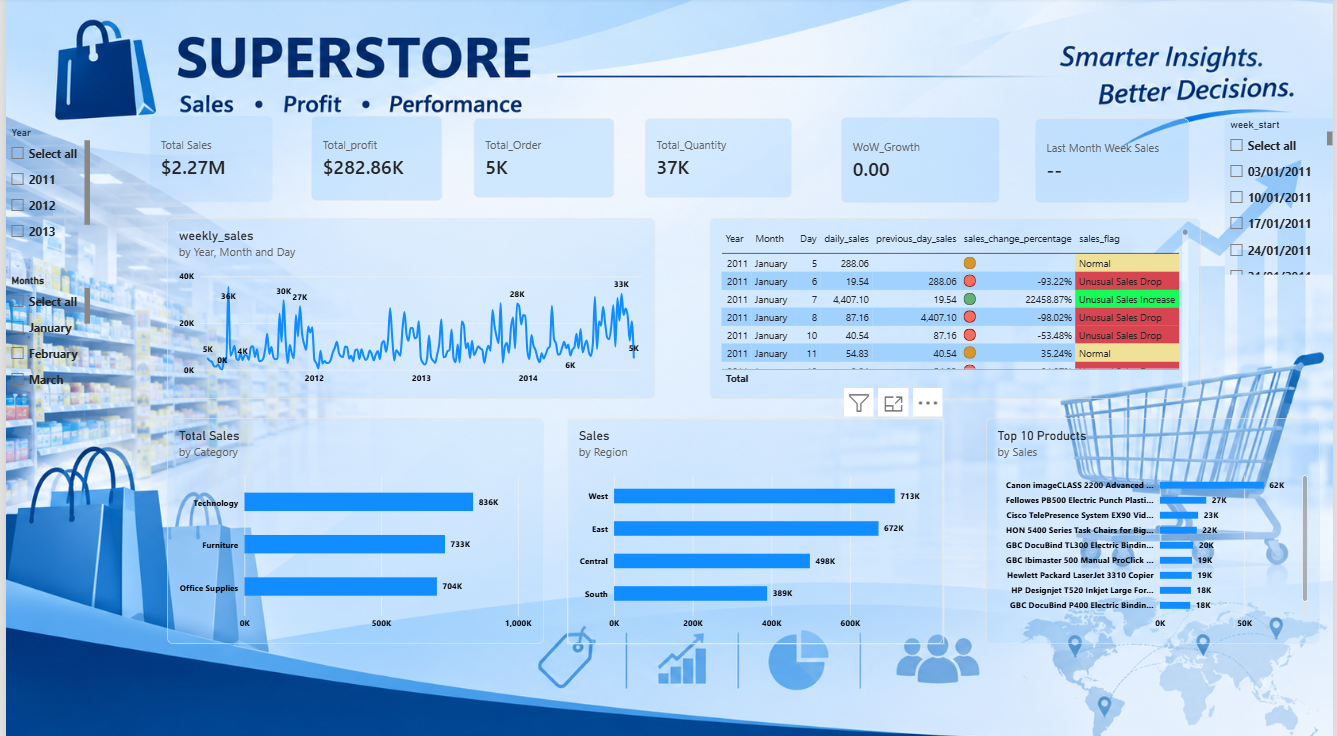

What the dashboard file says about the page in this screenshot:
{"tool":"powerbi","page":{"name":"Retail_Dashboard","canvas":[1920,1080],"ordinal":0},"visuals":[{"type":"cardVisual","fields":{"Data":["Measures (2).Total Sales"]},"box":[208.1,171.9,178.3,125],"z":0},{"type":"cardVisual","fields":{"Data":["Measures (2).Total_profit"]},"box":[441.6,171.9,190,123.3],"z":1000},{"type":"cardVisual","fields":{"Data":["Measures (2).Total_Quantity"]},"box":[924.7,175.5,213.5,115.8],"z":2000},{"type":"cardVisual","fields":{"Data":["Measures (2).WoW_Growth"]},"box":[1208.3,173.3,230,125],"z":3000},{"type":"slicer","fields":{"Values":["retail_sales vw_weekly_business_report.week_start.Variation.Date Hierarchy.Year"]},"box":[0,188.2,121.2,171.9],"z":4000},{"type":"slicer","fields":{"Values":["retail_sales vw_weekly_business_report.week_start.Variation.Date Hierarchy.Month"]},"box":[0,401.7,121.7,180],"z":5000},{"type":"slicer","fields":{"Values":["retail_sales vw_weekly_business_report.week_start"]},"box":[1764.4,175.5,155.6,226.2],"z":6000},{"type":"lineChart","fields":{"Category":["retail_sales vw_weekly_business_report.week_start.Variation.Date Hierarchy.Year","retail_sales vw_weekly_business_report.week_start.Variation.Date Hierarchy.Month","retail_sales vw_weekly_business_report.week_start.Variation.Date Hierarchy.Day"],"Y":["Sum(retail_sales vw_weekly_business_report.weekly_sales)"]},"box":[233.3,320,706.7,261.7],"z":7000},{"type":"tableEx","fields":{"Values":["retail_sales vw_daily_sales_anomalies.sales_date.Variation.Date Hierarchy.Year","retail_sales vw_daily_sales_anomalies.sales_date.Variation.Date Hierarchy.Month","retail_sales vw_daily_sales_anomalies.sales_date.Variation.Date Hierarchy.Day","retail_sales vw_daily_sales_anomalies.daily_sales","retail_sales vw_daily_sales_anomalies.previous_day_sales","retail_sales vw_daily_sales_anomalies.sales_change_percentage","retail_sales vw_daily_sales_anomalies.sales_flag"]},"box":[1018.3,320,710,261.7],"z":8000},{"type":"clusteredBarChart","fields":{"Category":["retail_sales superstore_clean.Category"],"Y":["Sum(retail_sales superstore_clean.Sales)"]},"box":[233.3,610,545,326.7],"z":9000},{"type":"clusteredBarChart","fields":{"Category":["retail_sales superstore_clean.Region"],"Y":["Sum(retail_sales superstore_clean.Sales)"]},"box":[813.3,610,543.3,326.7],"z":10000},{"type":"clusteredBarChart","fields":{"Category":["retail_sales superstore_clean.Product Name"],"Y":["Sum(retail_sales superstore_clean.Sales)"]},"box":[1418.3,610,483.3,326.7],"z":11000},{"type":"cardVisual","fields":{"Data":["Measures (2).Last Month Sales"]},"box":[1489.4,175.5,224.4,123.1],"z":12000},{"type":"cardVisual","fields":{"Data":["Measures (2).Total_Order"]},"box":[676.8,175.5,204.5,115.8],"z":12001}]}

Visuals, with their boxes in screenshot pixels (x1, y1, x2, y2), scaled from the page's 1920x1080 canvas onto the 1337x736 screenshot:
cardVisual - Measures (2).Total Sales: box(145, 117, 269, 202)
cardVisual - Measures (2).Total_profit: box(308, 117, 440, 201)
cardVisual - Measures (2).Total_Quantity: box(644, 120, 793, 199)
cardVisual - Measures (2).WoW_Growth: box(841, 118, 1002, 203)
slicer - retail_sales vw_weekly_business_report.week_start.Variation.Date Hierarchy.Year: box(0, 128, 84, 245)
slicer - retail_sales vw_weekly_business_report.week_start.Variation.Date Hierarchy.Month: box(0, 274, 85, 396)
slicer - retail_sales vw_weekly_business_report.week_start: box(1229, 120, 1336, 274)
lineChart - retail_sales vw_weekly_business_report.week_start.Variation.Date Hierarchy.Year x retail_sales vw_weekly_business_report.week_start.Variation.Date Hierarchy.Month: box(162, 218, 655, 396)
tableEx - retail_sales vw_daily_sales_anomalies.sales_date.Variation.Date Hierarchy.Year x retail_sales vw_daily_sales_anomalies.sales_date.Variation.Date Hierarchy.Month: box(709, 218, 1204, 396)
clusteredBarChart - retail_sales superstore_clean.Category x Sum(retail_sales superstore_clean.Sales): box(162, 416, 542, 638)
clusteredBarChart - retail_sales superstore_clean.Region x Sum(retail_sales superstore_clean.Sales): box(566, 416, 945, 638)
clusteredBarChart - retail_sales superstore_clean.Product Name x Sum(retail_sales superstore_clean.Sales): box(988, 416, 1324, 638)
cardVisual - Measures (2).Last Month Sales: box(1037, 120, 1193, 203)
cardVisual - Measures (2).Total_Order: box(471, 120, 614, 199)
